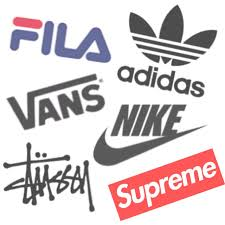adidas: (117, 3, 219, 98)
nike: (92, 123, 206, 166)
vans: (6, 71, 105, 130)
